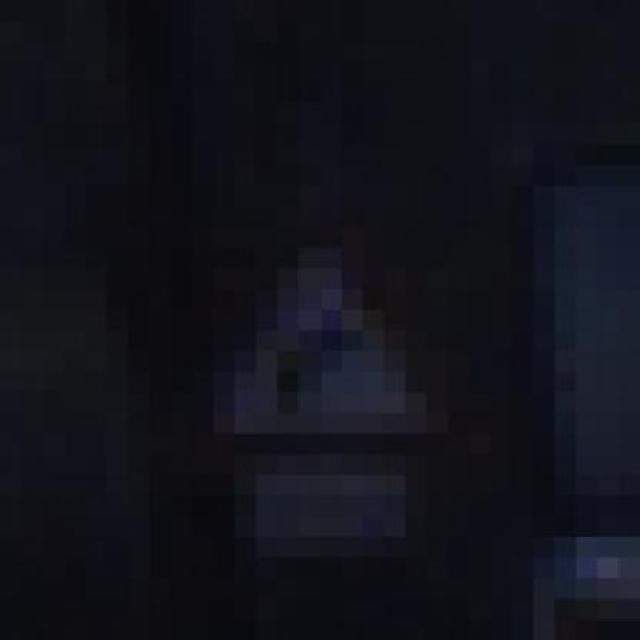Dangerous Rright Curve Ahead: (149, 207, 469, 496)
